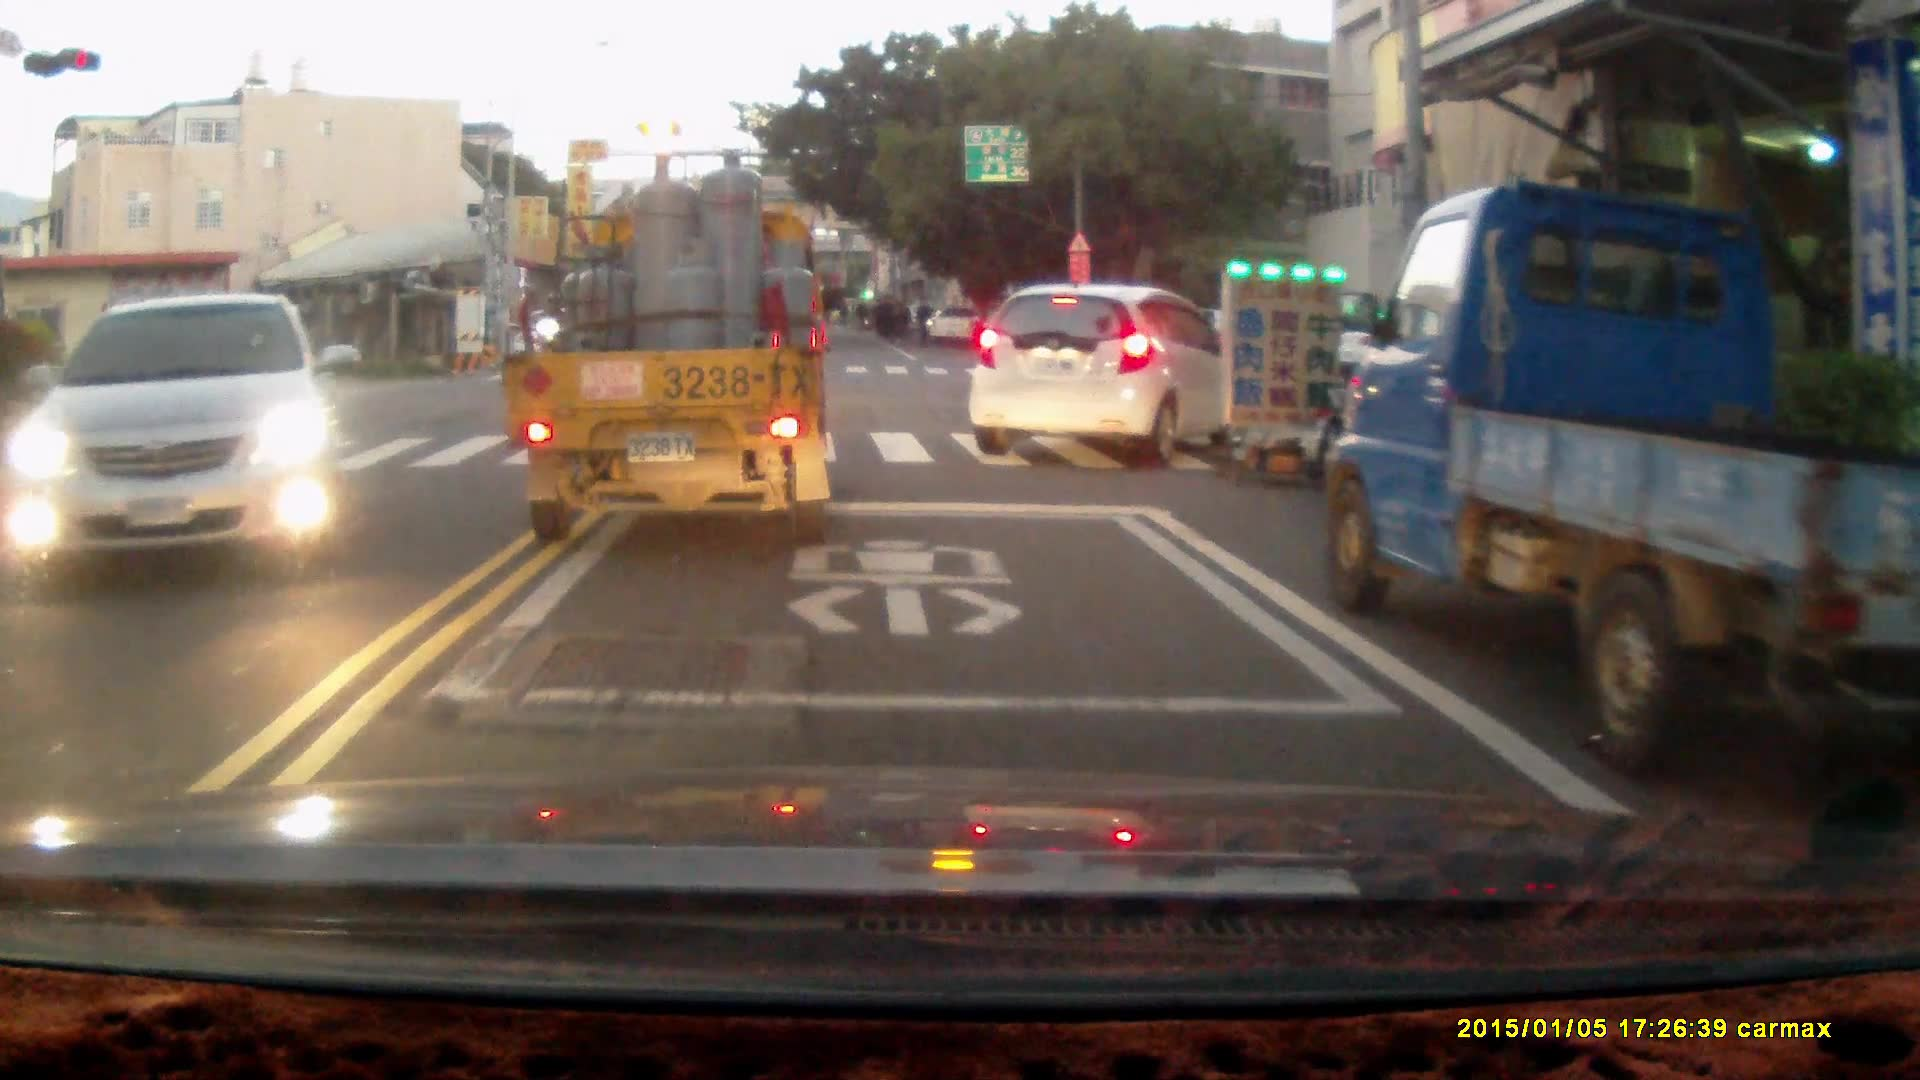vehicle: (1319, 185, 1920, 787), (501, 152, 837, 549), (4, 291, 338, 576), (967, 286, 1233, 469)
